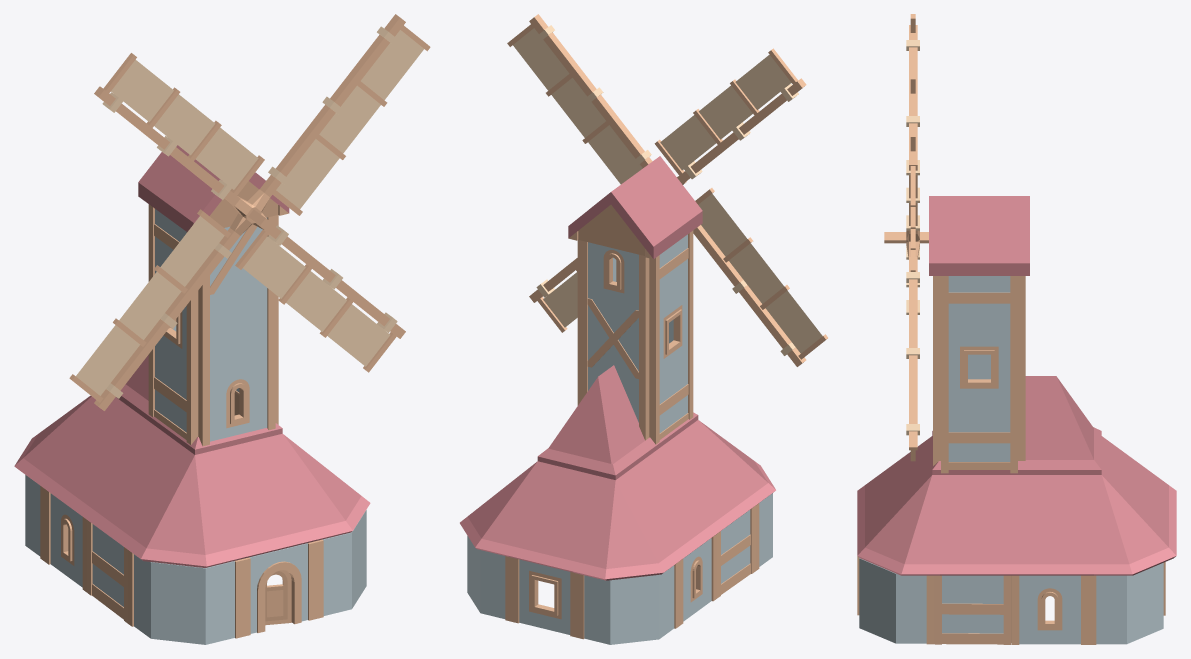
Rendered from windmill.fbx.
The picture shows the model from 3 angles, left to right: view 1: azimuth 30°, elevation 25°; view 2: azimuth 150°, elevation 25°; view 3: azimuth 270°, elevation 25°; orthographic projection. The views are drawn at different scales.
Parts seen in each view (by area): view 1: wallWindowShutters.009, windmill.003, door.004; view 2: wallWindowShutters.009, windmill.003; view 3: wallWindowShutters.009, windmill.003.
Boxes of the visible parts, box(x1,y1,x2,y2) form: wallWindowShutters.009: box(14, 145, 370, 644); windmill.003: box(69, 14, 430, 410); door.004: box(265, 570, 291, 625); wallWindowShutters.009: box(460, 156, 775, 644); windmill.003: box(507, 14, 827, 366); wallWindowShutters.009: box(857, 196, 1176, 644); windmill.003: box(884, 14, 928, 461).
Bounding box in the file's own units: 490 × 758 × 414.
